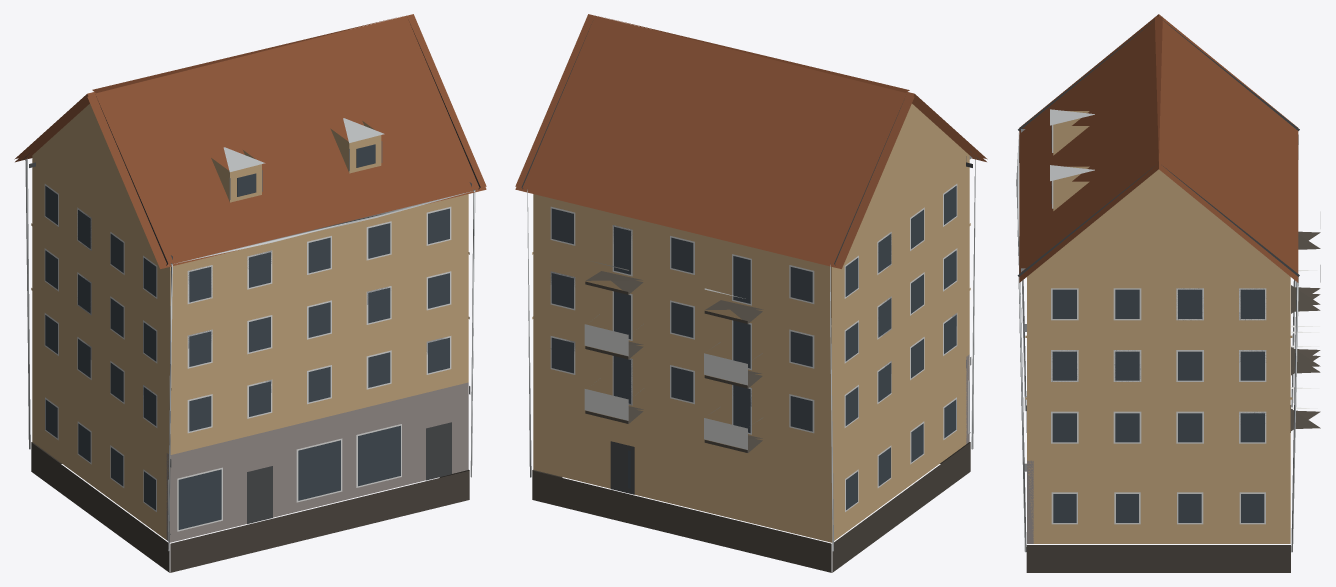
Rendered from block-row-4-ends-lod1.glb.
3 renders of one model, left to right at view 1: azimuth 30°, elevation 25°; view 2: azimuth 150°, elevation 25°; view 3: azimuth 270°, elevation 25°, orthographic. The views are drawn at different scales.
Visible parts, largest first — view 1: block-row-4-ends-plaster0; view 2: block-row-4-ends-plaster0; view 3: block-row-4-ends-plaster0.
Boxes of the visible parts, left/top/right/bottom form: block-row-4-ends-plaster0: left=14, top=14, right=486, bottom=572; block-row-4-ends-plaster0: left=515, top=14, right=987, bottom=572; block-row-4-ends-plaster0: left=1016, top=14, right=1320, bottom=572.
Bounding box in the file's own units: 16.4 × 20.76 × 13.89.
